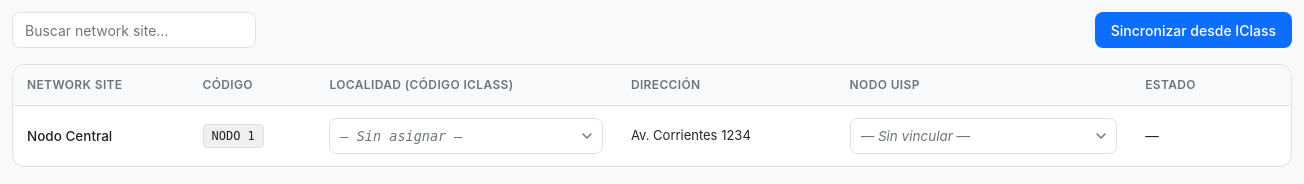
UispNodeMappingBody › SCEN-FE-NM-05: saving indicator while mutation is in flight
The image size is (1304, 184).
Select "Site Alpha" in the dropdown named "Nodo UISP para Nodo Central". click: (983, 136)
box: [850,118,1117,154]
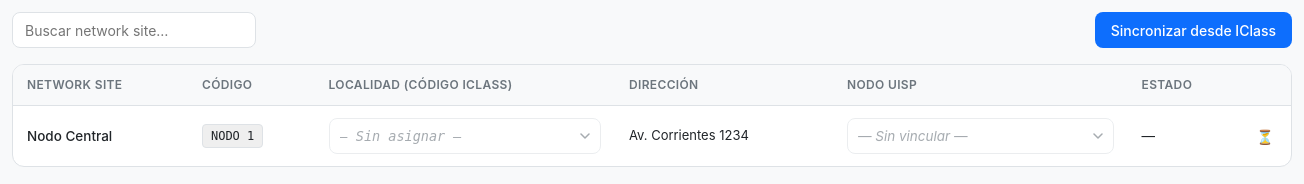
expect the text named "guardando" is shown: met, box [1256,128,1274,144]
